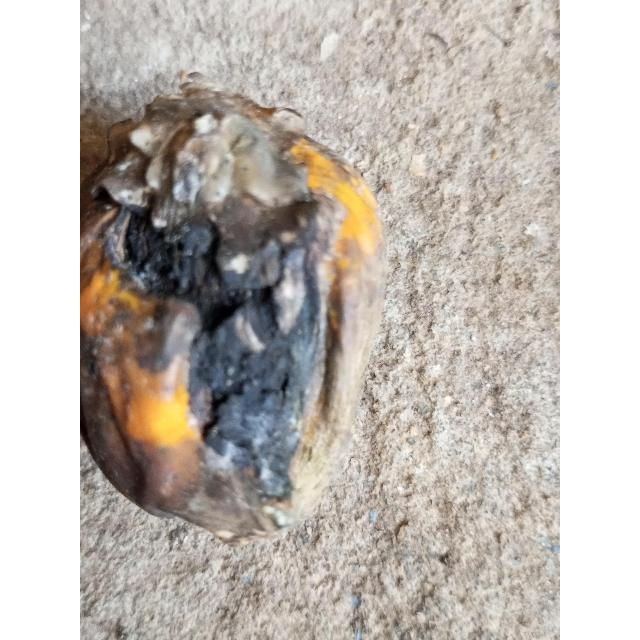damaged: (80, 77, 387, 546)
